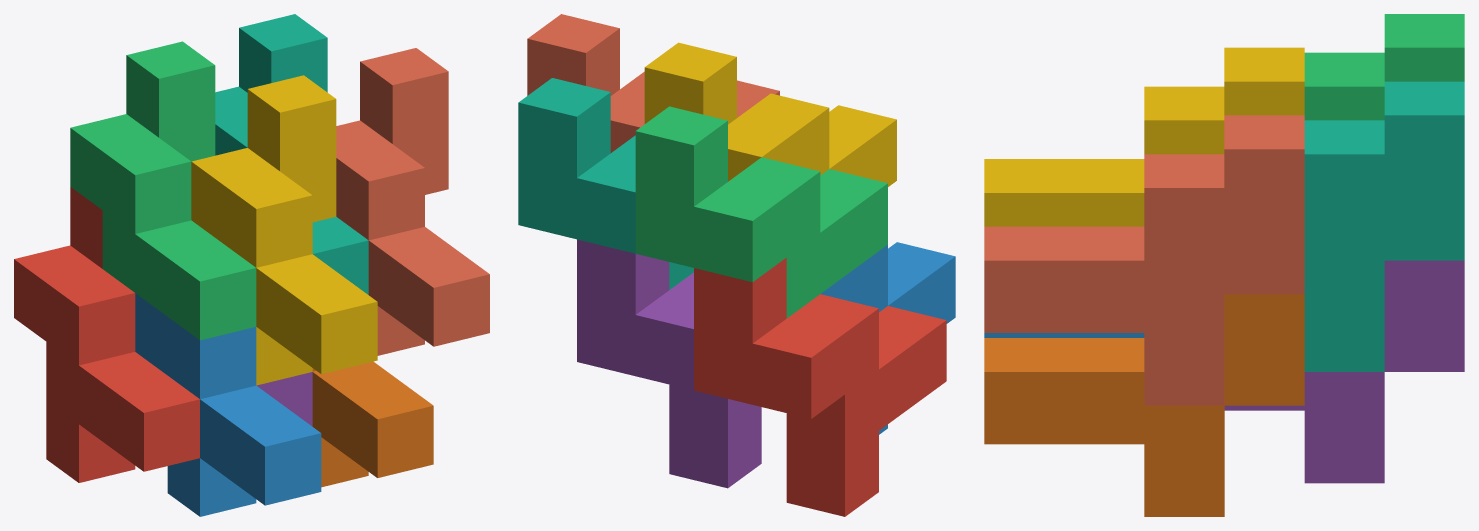
File: tiling.obj
3 views of the same model, side by side, from view 1: azimuth 30°, elevation 25°; view 2: azimuth 150°, elevation 25°; view 3: azimuth 270°, elevation 25° (orthographic). The views are drawn at different scales.
Parts seen in each view (by area): view 1: copy_1_domain_4, copy_1_domain_3, copy_1_domain_8, copy_1_domain_1, copy_1_domain_2, copy_1_domain_6, copy_1_domain_7, copy_1_domain_5; view 2: copy_1_domain_1, copy_1_domain_3, copy_1_domain_5, copy_1_domain_7, copy_1_domain_4, copy_1_domain_8, copy_1_domain_2; view 3: copy_1_domain_8, copy_1_domain_6, copy_1_domain_7, copy_1_domain_4, copy_1_domain_5, copy_1_domain_3, copy_1_domain_2.
Boxes of the visible parts, x1,y1,x2,y2 form: copy_1_domain_4: (191, 75, 377, 385); copy_1_domain_3: (70, 41, 256, 340); copy_1_domain_8: (336, 48, 489, 355); copy_1_domain_1: (14, 187, 199, 482); copy_1_domain_2: (135, 293, 321, 516); copy_1_domain_6: (312, 361, 433, 487); copy_1_domain_7: (215, 14, 368, 294); copy_1_domain_5: (256, 372, 312, 426); copy_1_domain_1: (694, 257, 946, 516); copy_1_domain_3: (635, 106, 887, 318); copy_1_domain_5: (577, 239, 761, 488); copy_1_domain_7: (518, 78, 693, 289); copy_1_domain_4: (644, 42, 896, 186); copy_1_domain_8: (527, 14, 779, 152); copy_1_domain_2: (821, 242, 955, 434); copy_1_domain_8: (984, 115, 1304, 405); copy_1_domain_6: (984, 294, 1304, 516); copy_1_domain_7: (1304, 81, 1464, 371); copy_1_domain_4: (984, 47, 1304, 226); copy_1_domain_5: (1224, 260, 1464, 483); copy_1_domain_3: (1304, 14, 1464, 120); copy_1_domain_2: (984, 333, 1144, 337).
Bounding box in the file's own units: 6 × 6 × 6.
